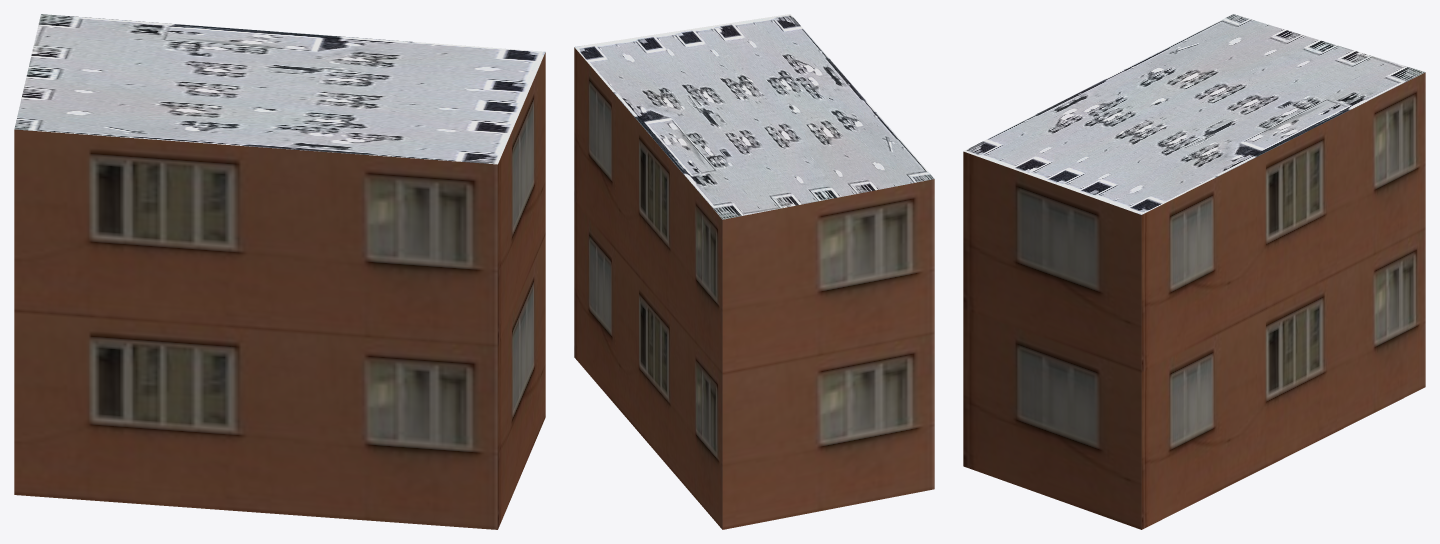
Rendered from ResTex__2981.fbx.
3 renders of one model, left to right at view 1: azimuth 30°, elevation 25°; view 2: azimuth 150°, elevation 25°; view 3: azimuth 270°, elevation 25°, orthographic. The views are drawn at different scales.
Parts seen in each view (by area): view 1: CityEngineMaterial_20_m, CityEngineMaterial_4_m; view 2: CityEngineMaterial_20_m, CityEngineMaterial_4_m; view 3: CityEngineMaterial_20_m, CityEngineMaterial_4_m.
Boxes of the visible parts, <box> form: CityEngineMaterial_20_m: <box>14,52,545,529</box>; CityEngineMaterial_4_m: <box>14,14,545,164</box>; CityEngineMaterial_20_m: <box>574,47,934,529</box>; CityEngineMaterial_4_m: <box>574,14,934,219</box>; CityEngineMaterial_20_m: <box>963,72,1425,529</box>; CityEngineMaterial_4_m: <box>963,14,1425,214</box>.
Size of the model in its own units: 8.21 by 6 by 7.99.
2 materials, 2 textured.
